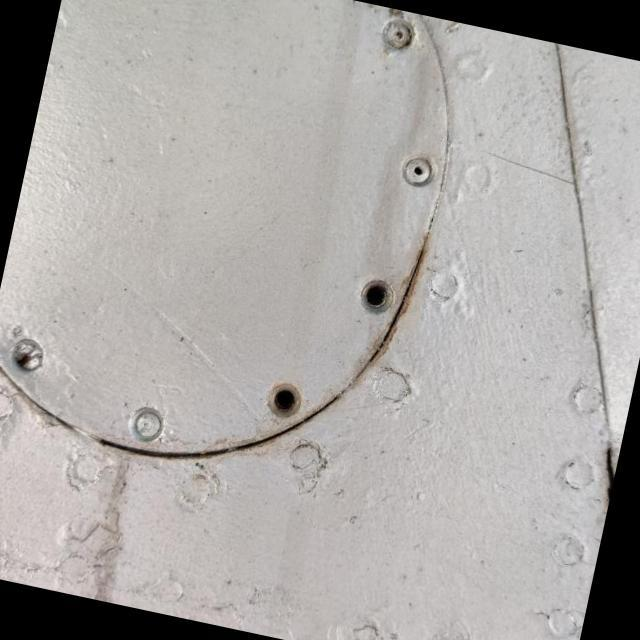Fastener Damage: (232, 354, 321, 442), (336, 250, 422, 338)
